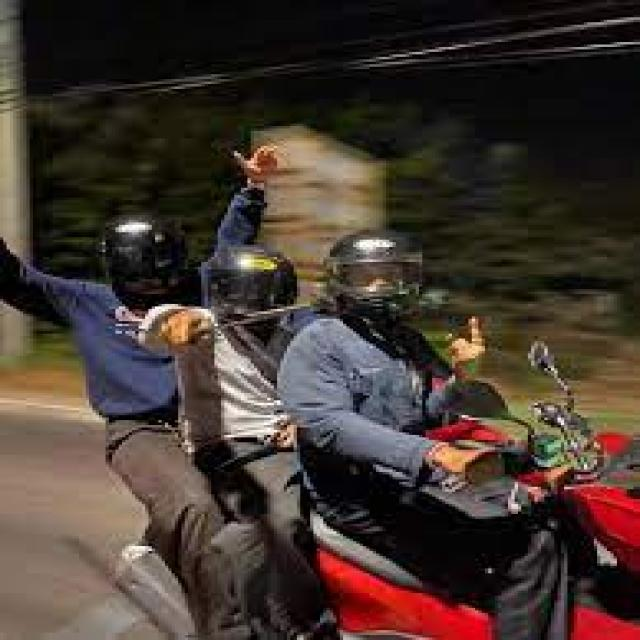helmet: (98, 194, 196, 306), (328, 226, 435, 328), (202, 243, 300, 322)
knife: (150, 301, 316, 341)
